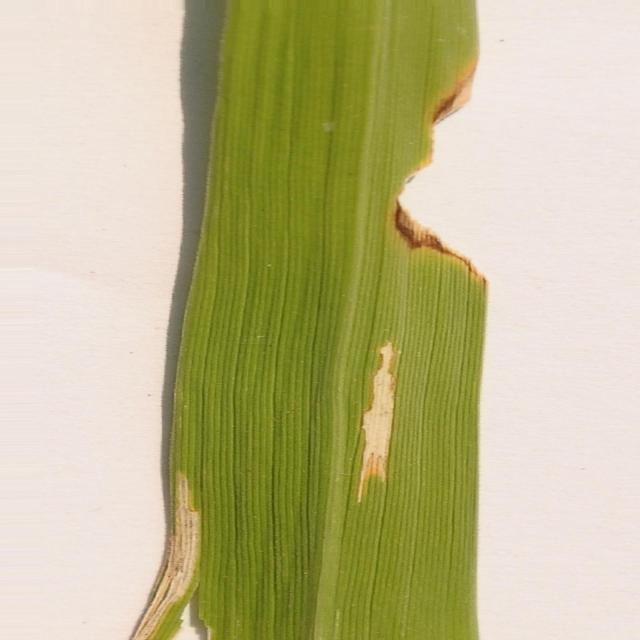Bacterial_Leaf_Blight: (131, 471, 201, 640), (358, 342, 396, 501)
